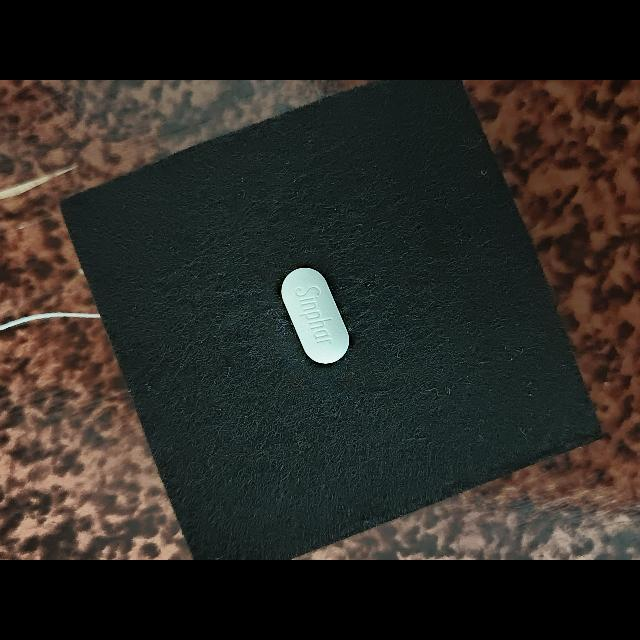Intact Pill: (281, 268, 350, 364)
